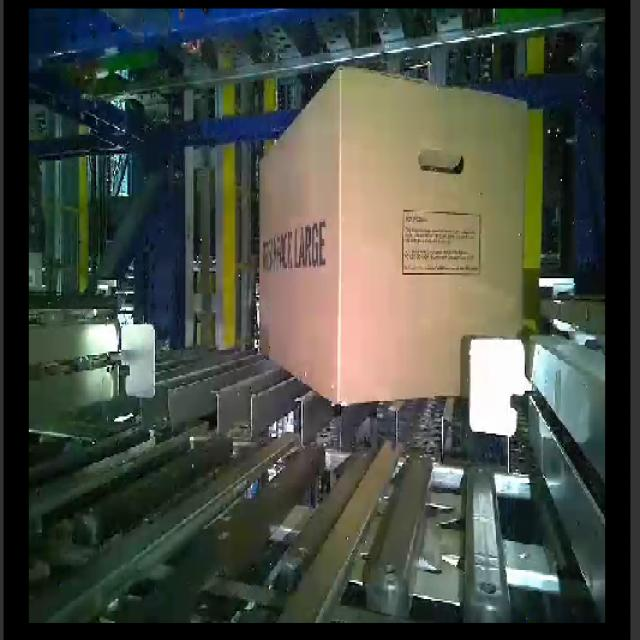box: (258, 67, 341, 405)
